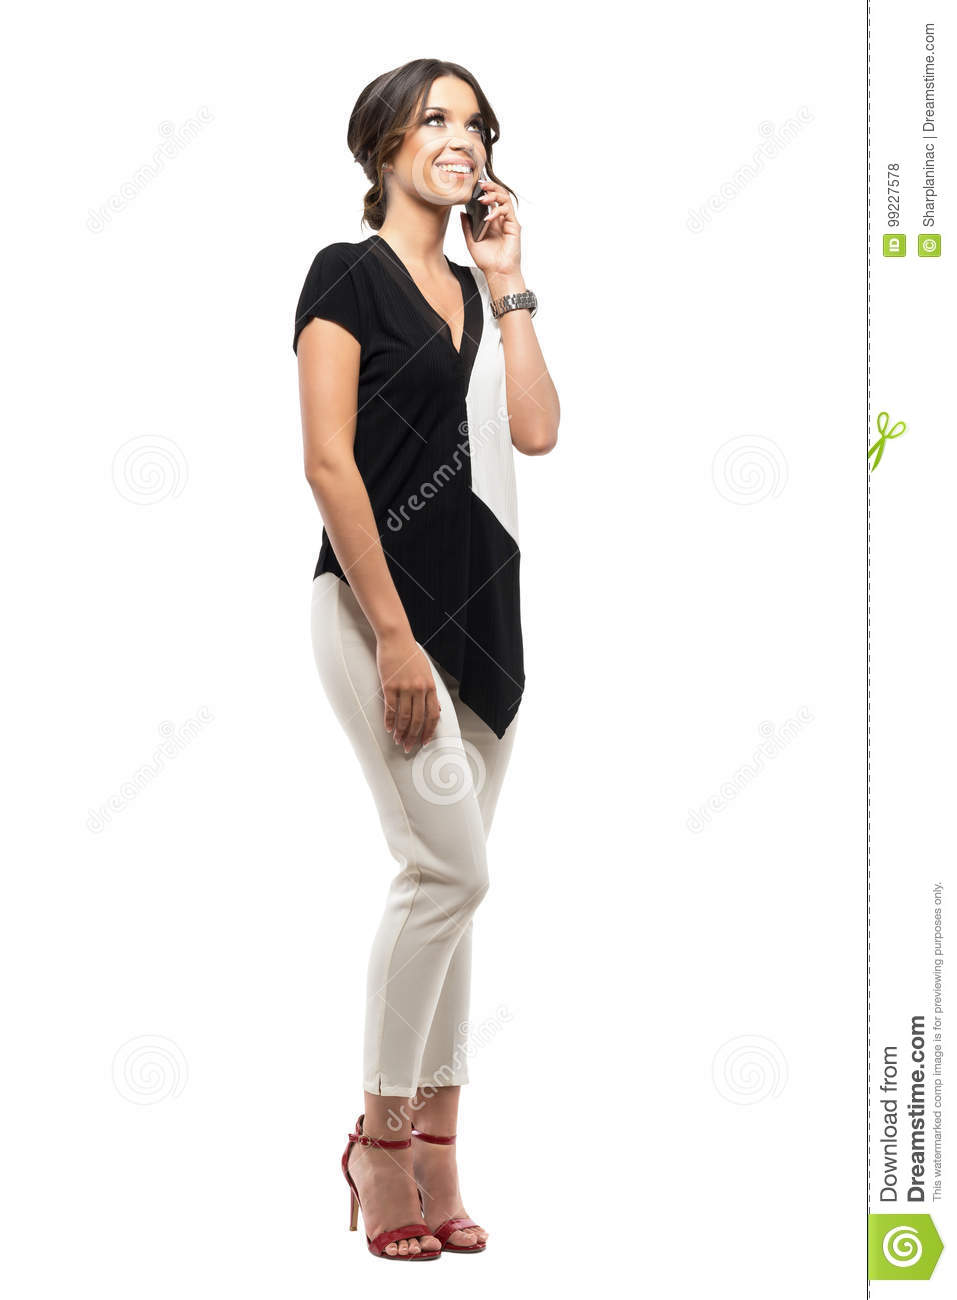phone: (471, 168, 495, 241)
talk: (416, 103, 523, 285)
